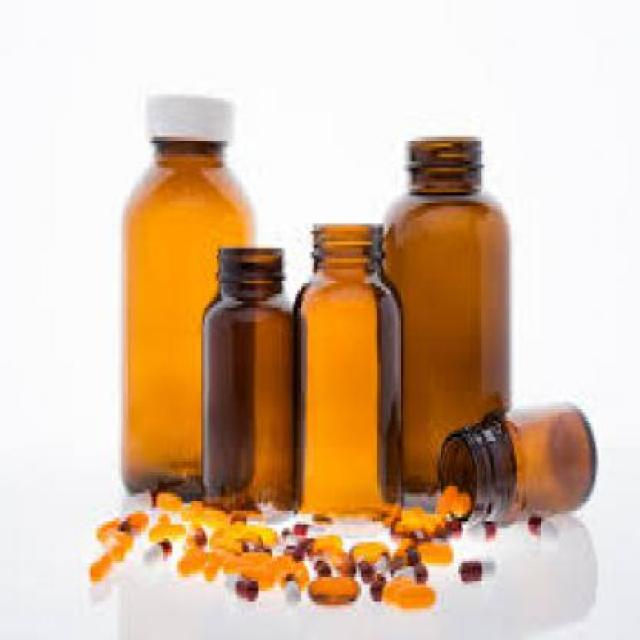kaca: (121, 137, 254, 489), (380, 137, 508, 494), (294, 222, 398, 518), (198, 245, 296, 503), (436, 402, 596, 524)
